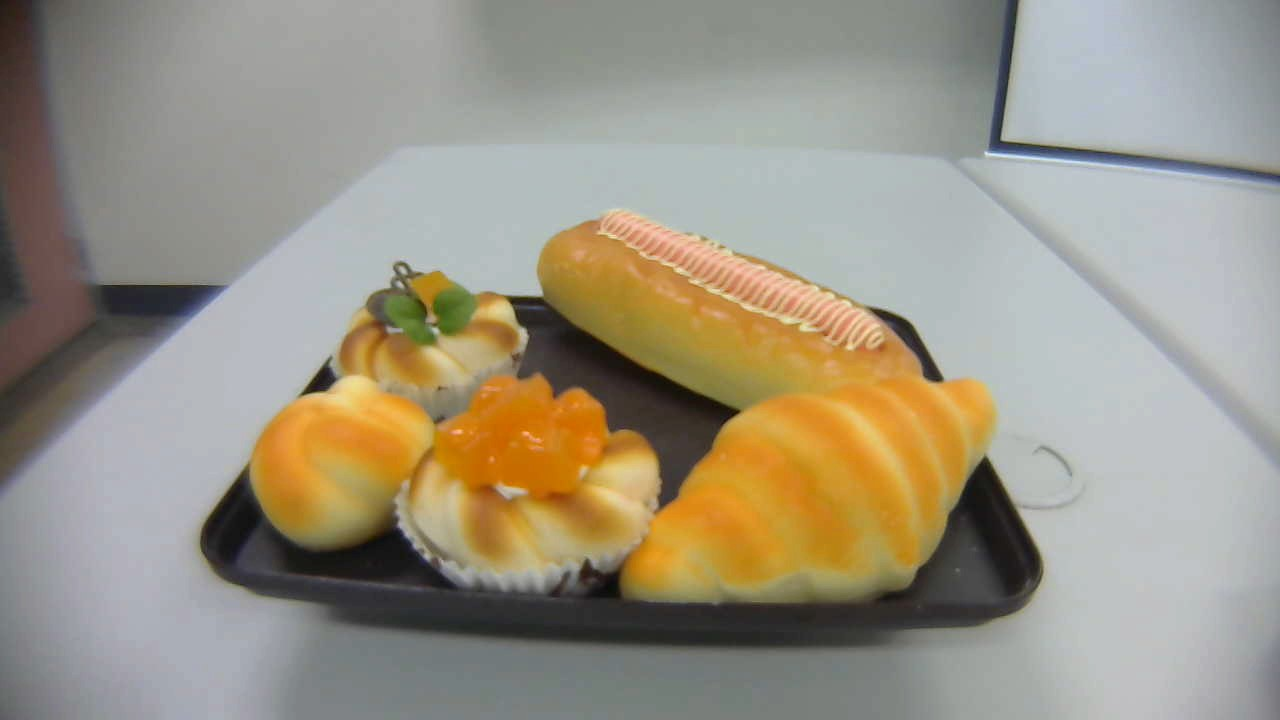croissant: (621, 372, 999, 604)
fruit tart: (331, 259, 530, 422)
hot dog: (538, 209, 924, 420)
mango tart: (398, 373, 662, 596)
twist bread: (249, 375, 435, 551)
